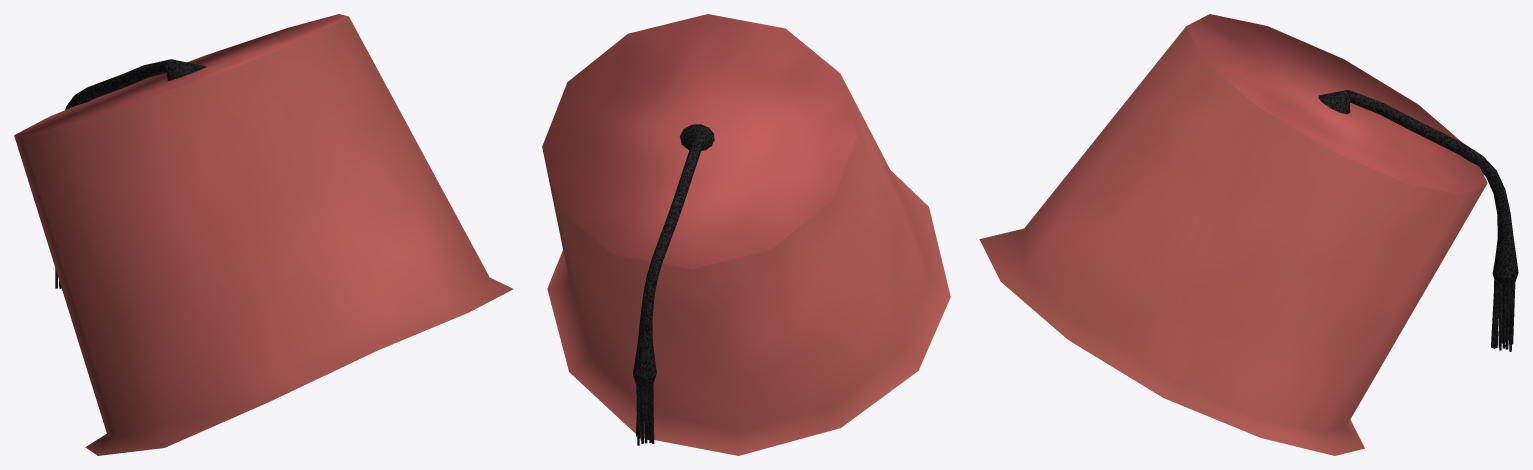
The model's file is hat_fez.gltf.
3 renders of one model, left to right at view 1: azimuth 30°, elevation 25°; view 2: azimuth 150°, elevation 25°; view 3: azimuth 270°, elevation 25°, orthographic. The views are drawn at different scales.
Visible parts, largest first — view 1: Fez; view 2: Fez; view 3: Fez.
Part boxes in pixels (x1,y1,x2,y2): Fez: (14, 14, 513, 455); Fez: (542, 14, 950, 455); Fez: (979, 14, 1518, 455).
Size of the model in its own units: 0.1922 by 0.1957 by 0.2407.
1 material, 1 textured.
